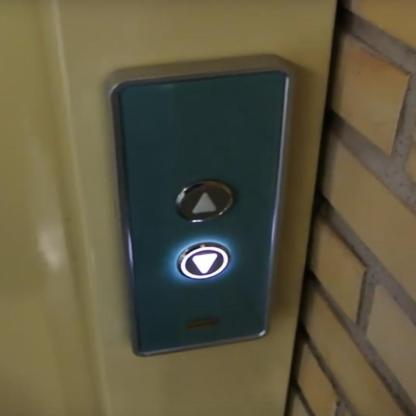down: (174, 238, 233, 282)
up: (174, 178, 238, 224)
